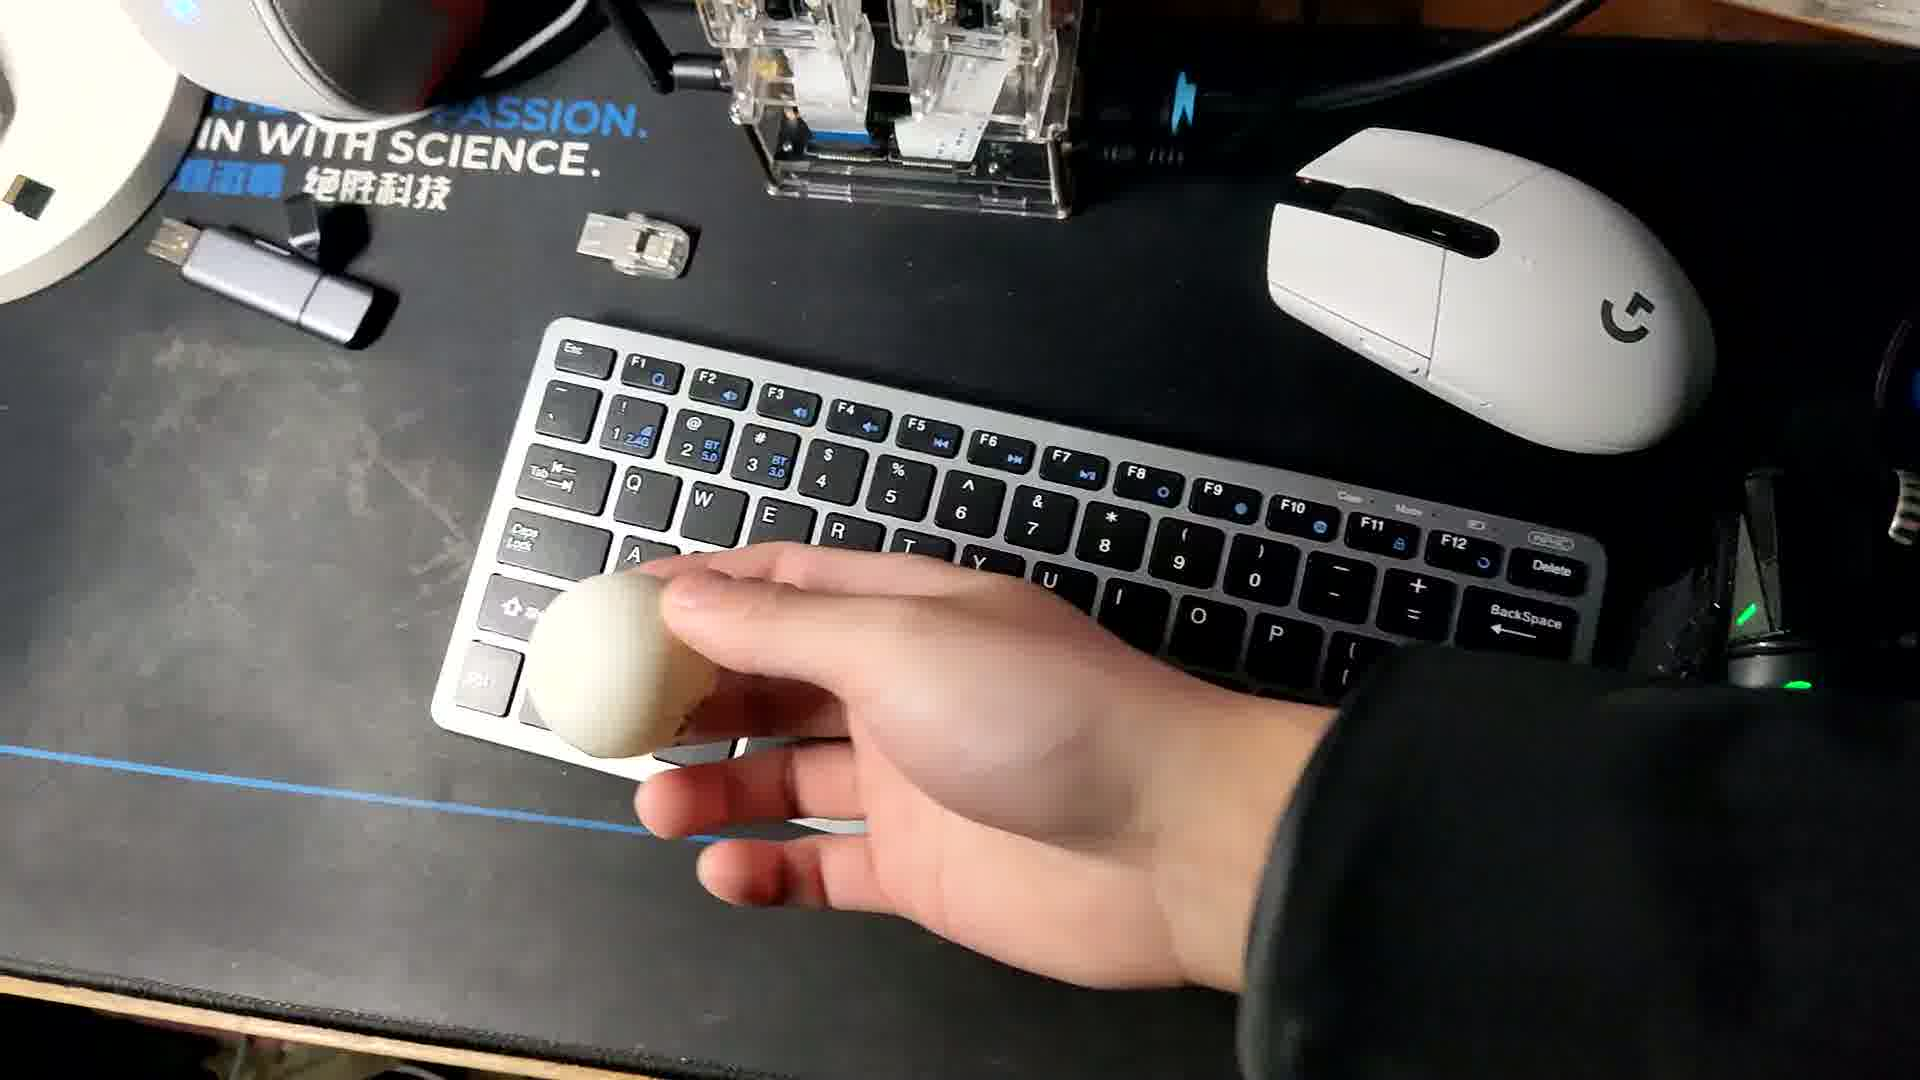Ball: (531, 570, 717, 758)
